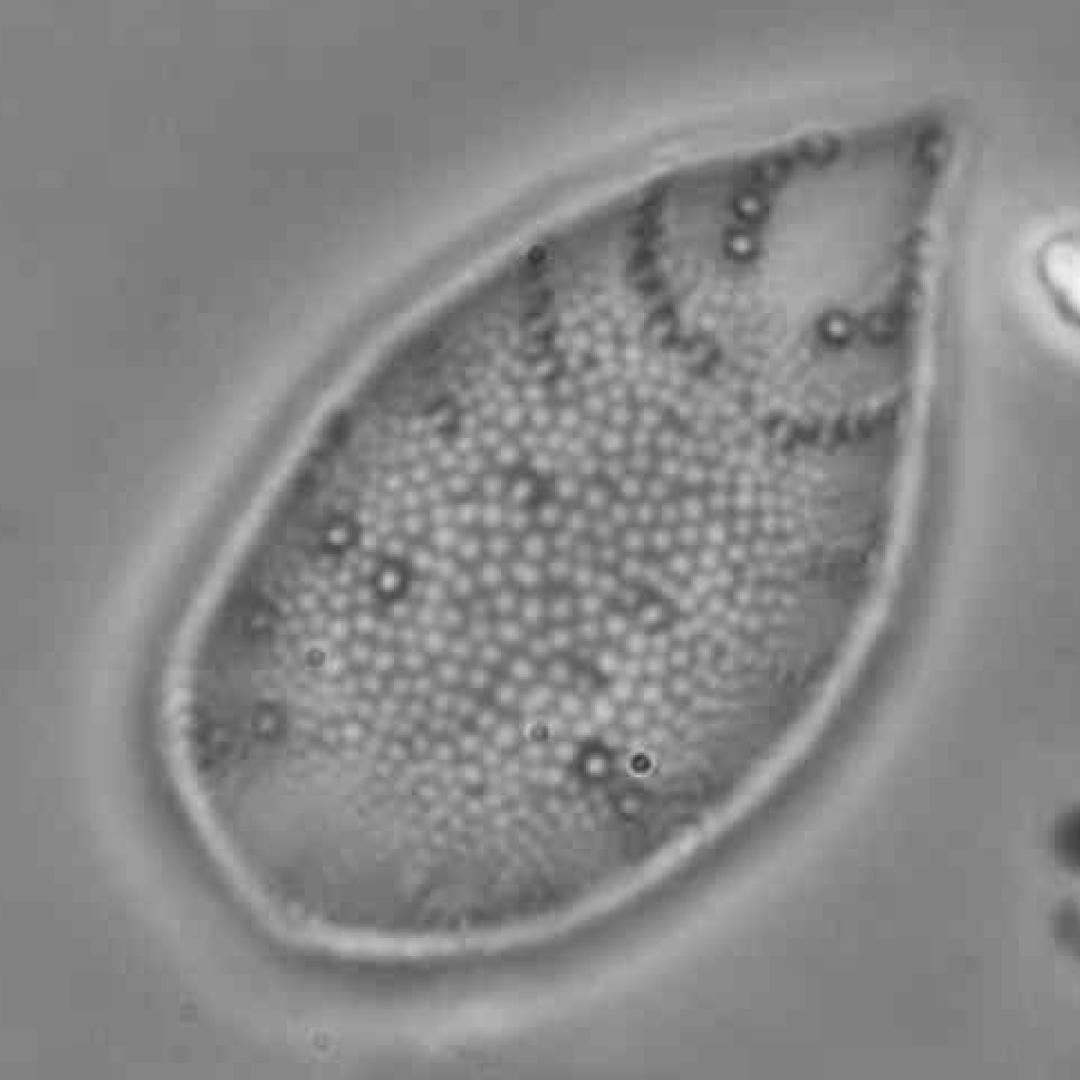prorocentrum_micans: (168, 80, 979, 952)
